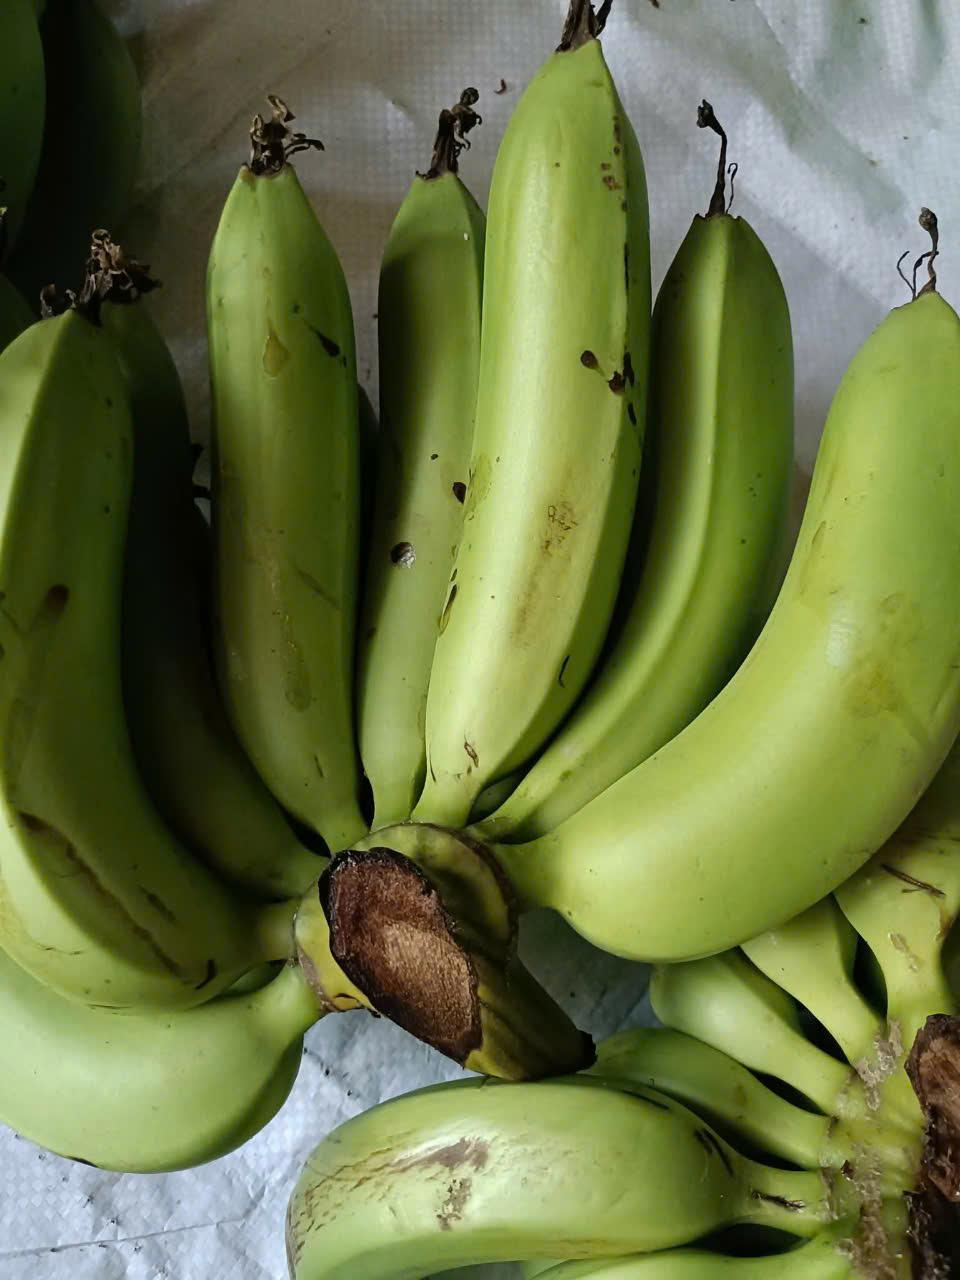banana: (427, 27, 960, 950), (0, 133, 406, 1166)
